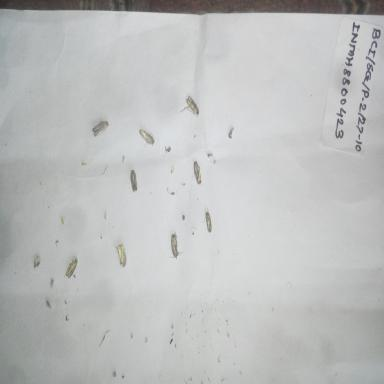pbw: (184, 93, 202, 118), (91, 118, 111, 140), (115, 241, 129, 269), (167, 232, 181, 260), (64, 255, 80, 279), (137, 127, 156, 147), (191, 160, 204, 187), (128, 168, 140, 195), (202, 209, 214, 234)
